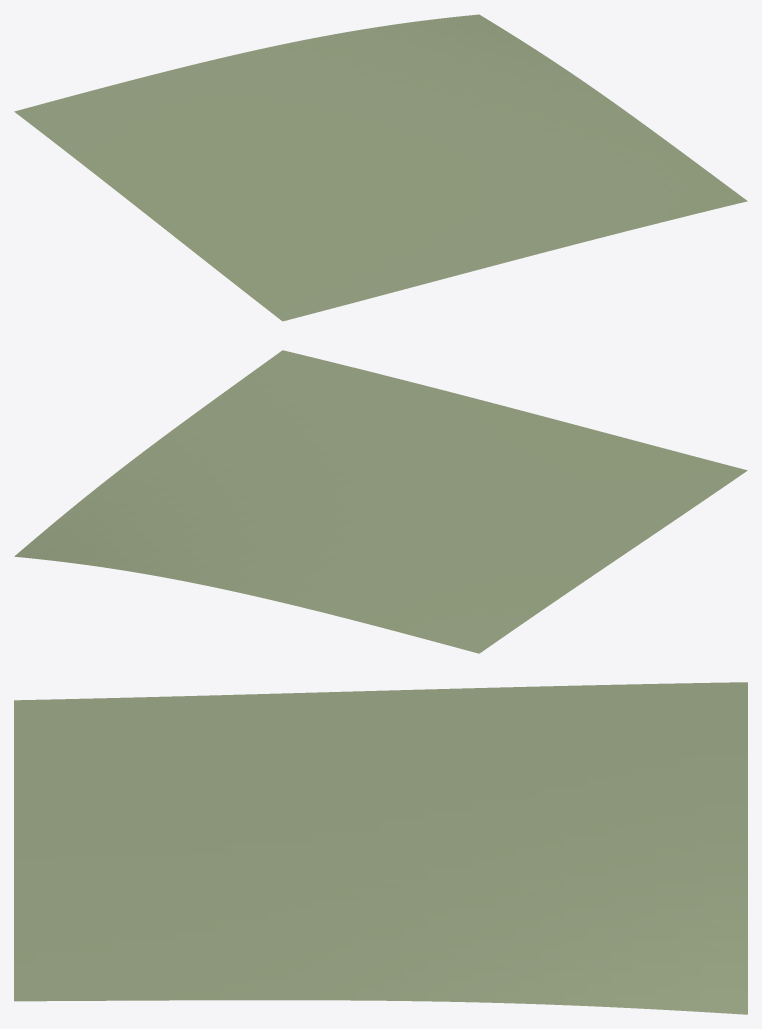
The model's file is expanse-3-31.glb.
3 views of the same model, one above another, from view 1: azimuth 30°, elevation 25°; view 2: azimuth 150°, elevation 25°; view 3: azimuth 270°, elevation 25° (orthographic). The views are drawn at different scales.
Visible parts, largest first — view 1: expanse-3-31; view 2: expanse-3-31; view 3: expanse-3-31.
Part boxes in pixels (<box>): expanse-3-31: <box>14,14,747,321</box>; expanse-3-31: <box>14,350,747,653</box>; expanse-3-31: <box>14,682,747,1014</box>.
Bounding box in the file's own units: 256 × 10.28 × 256.
